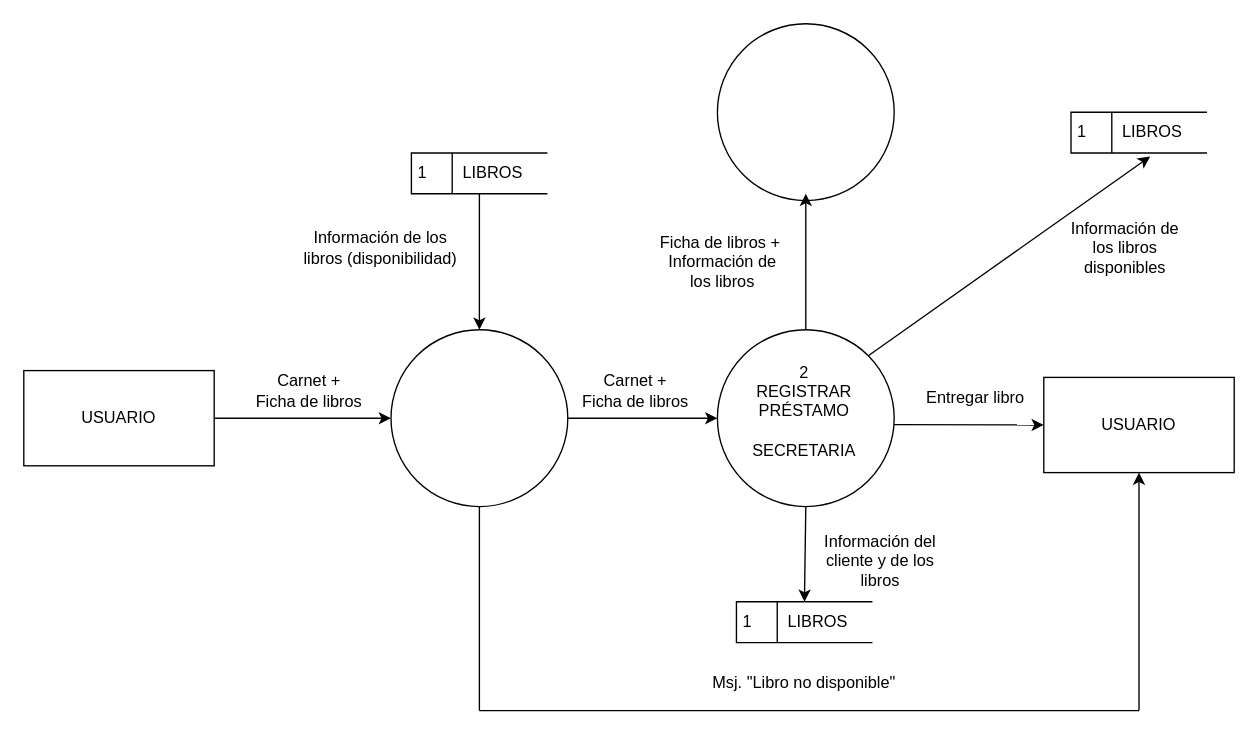
Some shapes in this 1258 by 745 pixel diagram are drawn without their labels. The centre of each missing label's shape, as x and y in pixels:
"1 VERIFICAR DISPONIBILIDAD DE LIBROS SECRETARIA" goes at (x=479, y=417).
"3 ACTUALIZAR LIBROS SECRETARIA" goes at (x=805, y=111).
